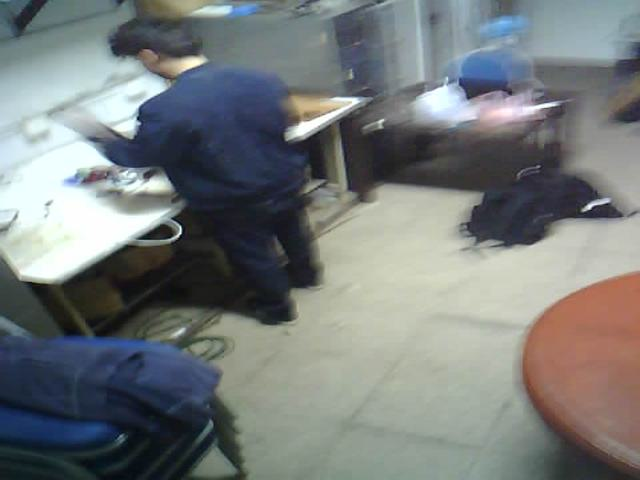person: (66, 16, 352, 346)
